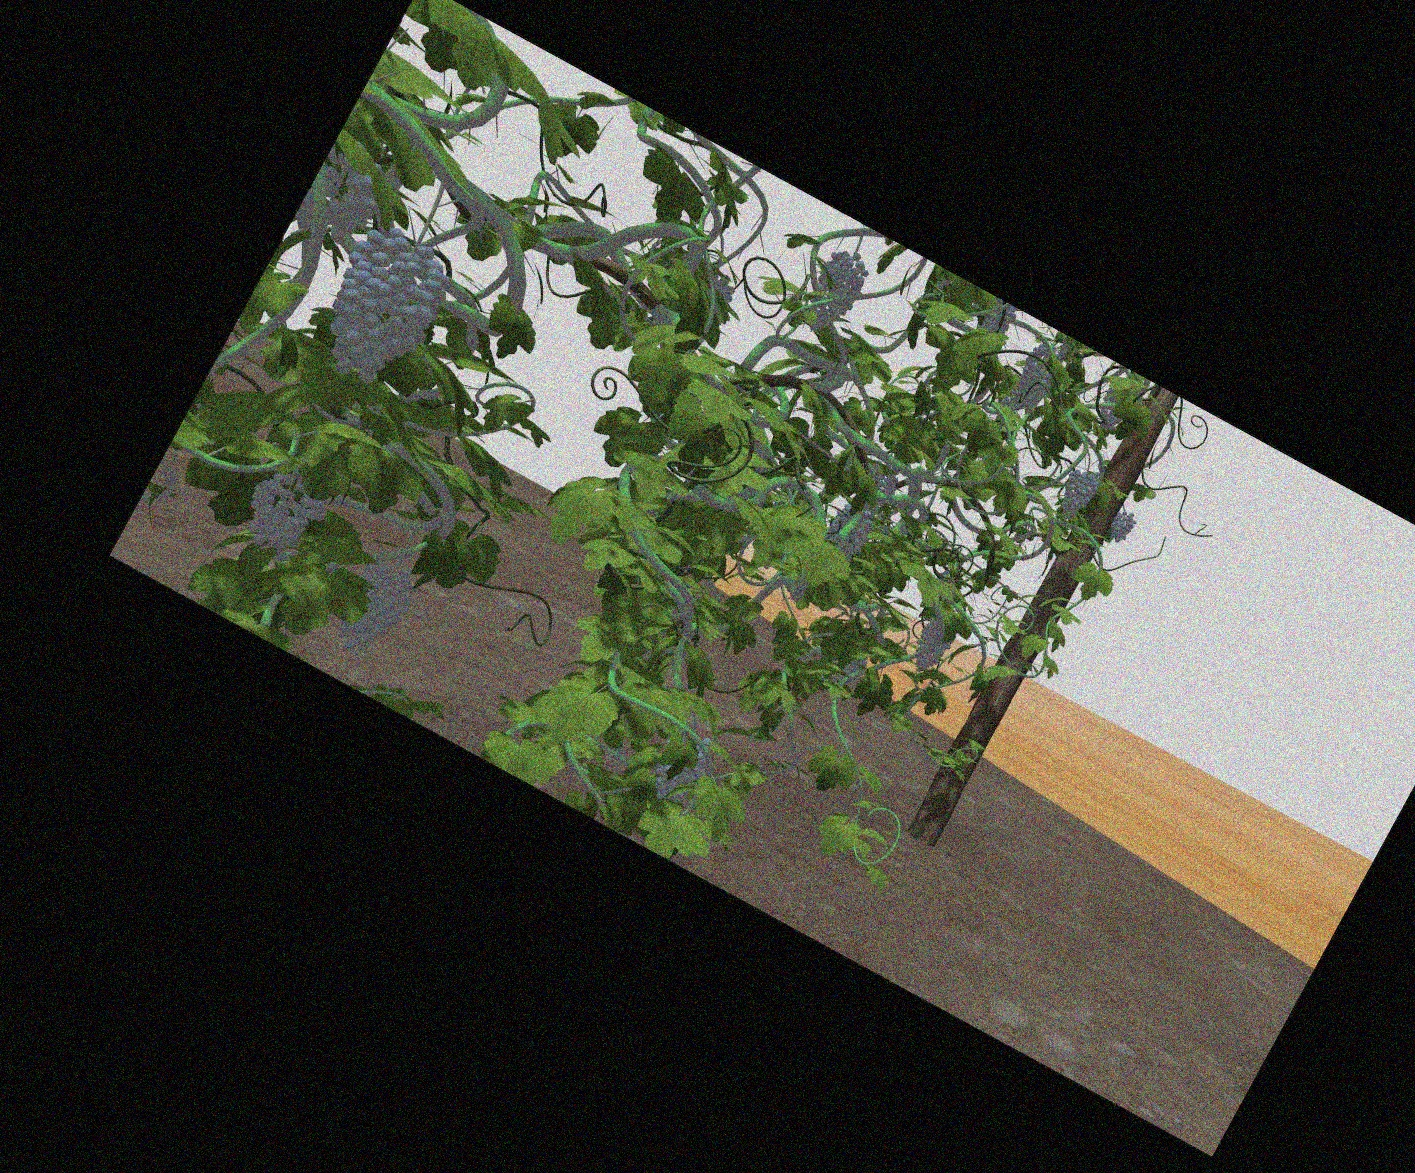grape: (335, 237, 429, 378), (252, 475, 313, 558), (344, 567, 401, 656), (309, 165, 367, 252), (813, 250, 860, 321), (659, 733, 698, 800), (1018, 346, 1051, 403), (914, 623, 947, 673), (1062, 468, 1091, 518), (1109, 509, 1134, 541)
